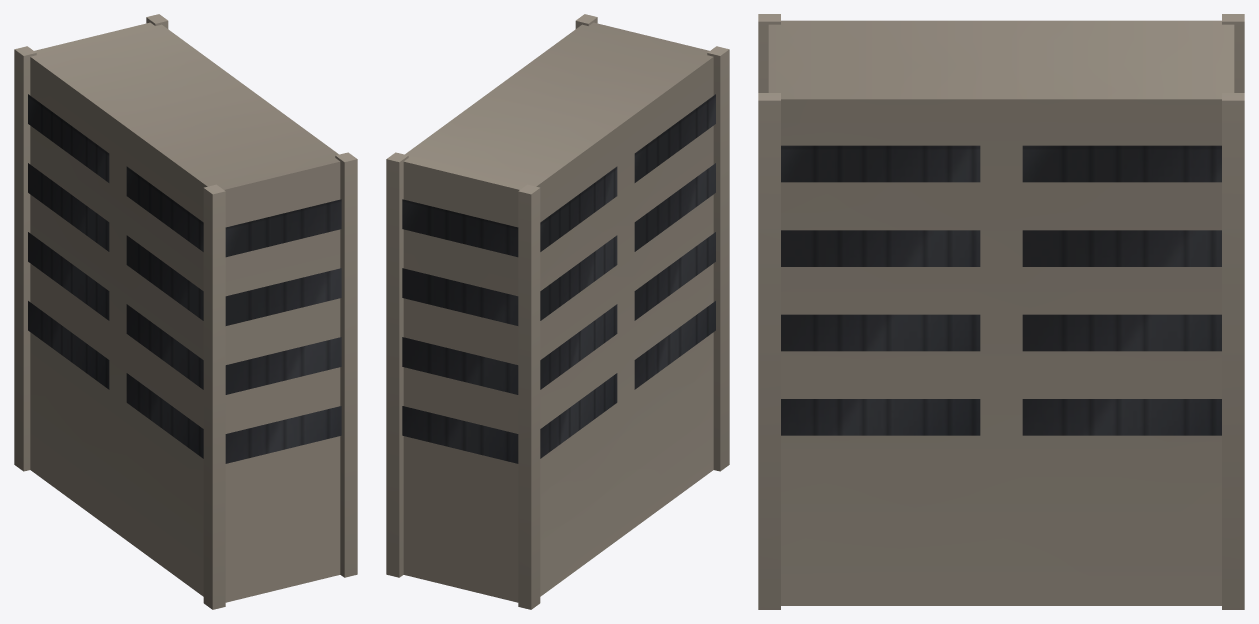
The model's file is Bld_Building_D_low.fbx.
3 views of the same model, side by side, from view 1: azimuth 30°, elevation 25°; view 2: azimuth 150°, elevation 25°; view 3: azimuth 270°, elevation 25° (orthographic). The views are drawn at different scales.
Visible parts, largest first — view 1: Bld_Building_D_low; view 2: Bld_Building_D_low; view 3: Bld_Building_D_low.
Part boxes in pixels (x1,y1,x2,y2): Bld_Building_D_low: [14, 14, 357, 609]; Bld_Building_D_low: [386, 14, 729, 609]; Bld_Building_D_low: [758, 14, 1244, 609].
Size of the model in its own units: 660 by 1810 by 1566.
